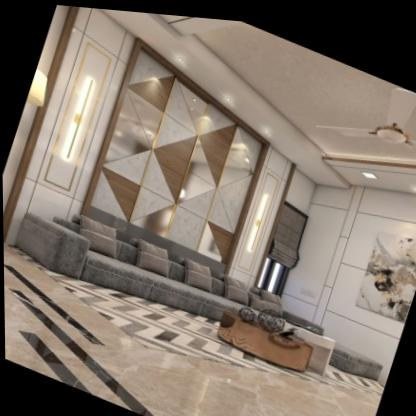Carpet: (56, 279, 289, 370)
Ceramic floor: (3, 244, 381, 416)
Gypsum Board: (103, 7, 416, 185)
Wall Panel: (17, 5, 320, 293), (277, 176, 416, 362)
